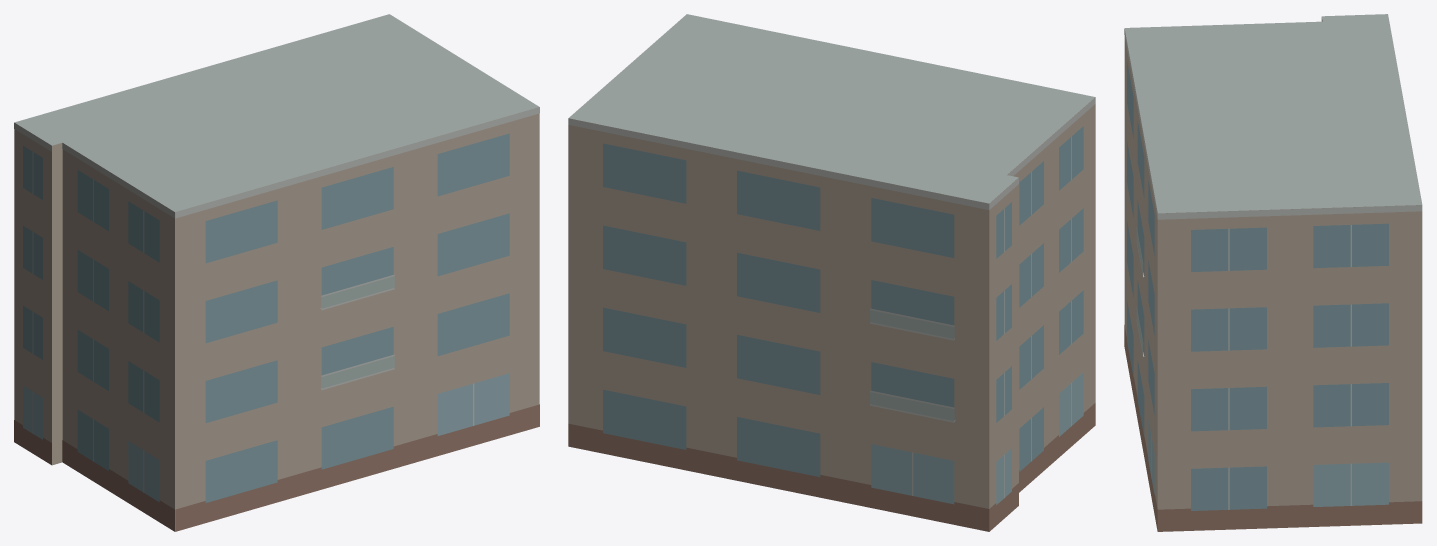
The model's file is survey-upis-32802843.glb.
3 views of the same model, side by side, from view 1: azimuth 30°, elevation 25°; view 2: azimuth 150°, elevation 25°; view 3: azimuth 270°, elevation 25° (orthographic). The views are drawn at different scales.
Visible parts, largest first — view 1: survey-upis-32802843.tmp; view 2: survey-upis-32802843.tmp; view 3: survey-upis-32802843.tmp.
Boxes of the visible parts, <box> form: survey-upis-32802843.tmp: <box>14,14,539,531</box>; survey-upis-32802843.tmp: <box>568,14,1095,531</box>; survey-upis-32802843.tmp: <box>1124,14,1422,531</box>.
Size of the model in its own units: 16.39 by 12.2 by 10.35.
